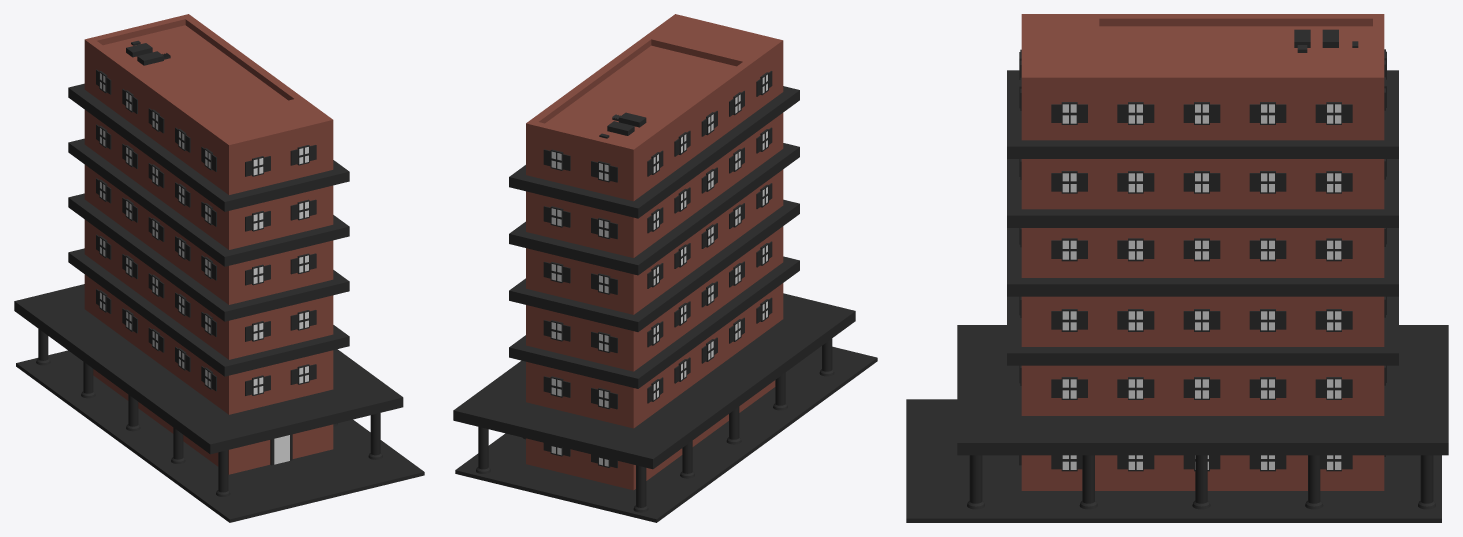
Rendered from gedung 2.fbx.
The picture shows the model from 3 angles, left to right: view 1: azimuth 30°, elevation 25°; view 2: azimuth 150°, elevation 25°; view 3: azimuth 270°, elevation 25°; orthographic projection. The views are drawn at different scales.
Parts seen in each view (by area): view 1: Plane, Plane.006, Cylinder, Cube.008, Cube.006, Cube.007, Cube.009, Cube.005, Cube.020, Cube.016, Cube.018, Cube.015 (+2 smaller); view 2: Plane, Plane.006, Cylinder, Cube.006, Cube.007, Cube.008, Cube.005, Cube.009, Cube.013, Cube.011, Cube.014, Cube.010 (+2 smaller); view 3: Plane, Plane.006, Cube.002, Cube.017, Cube.001, Cube.003, Cube.004, Cylinder, Cube.021.
Part boxes in pixels (x1,y1,x2,y2): Plane: (14, 14, 403, 474); Plane.006: (16, 350, 424, 522); Cylinder: (36, 329, 382, 496); Cube.008: (96, 124, 216, 226); Cube.006: (96, 234, 216, 336); Cube.007: (96, 178, 216, 280); Cube.009: (96, 69, 216, 171); Cube.005: (96, 289, 216, 391); Cube.020: (245, 145, 316, 176); Cube.016: (245, 310, 316, 341); Cube.018: (245, 253, 316, 285); Cube.015: (245, 364, 316, 395); Plane: (453, 14, 855, 490); Plane.006: (455, 346, 877, 522); Cylinder: (476, 338, 834, 512); Cube.006: (647, 241, 772, 347); Cube.007: (647, 183, 772, 288); Cube.008: (647, 127, 772, 233); Cube.005: (647, 297, 772, 403); Cube.009: (647, 71, 772, 176); Cube.013: (543, 206, 617, 239); Cube.011: (543, 320, 617, 352); Cube.014: (543, 149, 617, 182); Cube.010: (543, 376, 617, 409); Plane: (957, 14, 1448, 490); Plane.006: (906, 399, 1441, 522); Cube.002: (1051, 238, 1352, 261); Cube.017: (1051, 377, 1352, 399); Cube.001: (1051, 309, 1352, 331); Cube.003: (1051, 171, 1352, 193); Cube.004: (1051, 102, 1352, 124); Cylinder: (967, 455, 1435, 509); Cube.021: (1051, 455, 1352, 471).
Size of the model in its own units: 2436 by 3978 by 4682.
